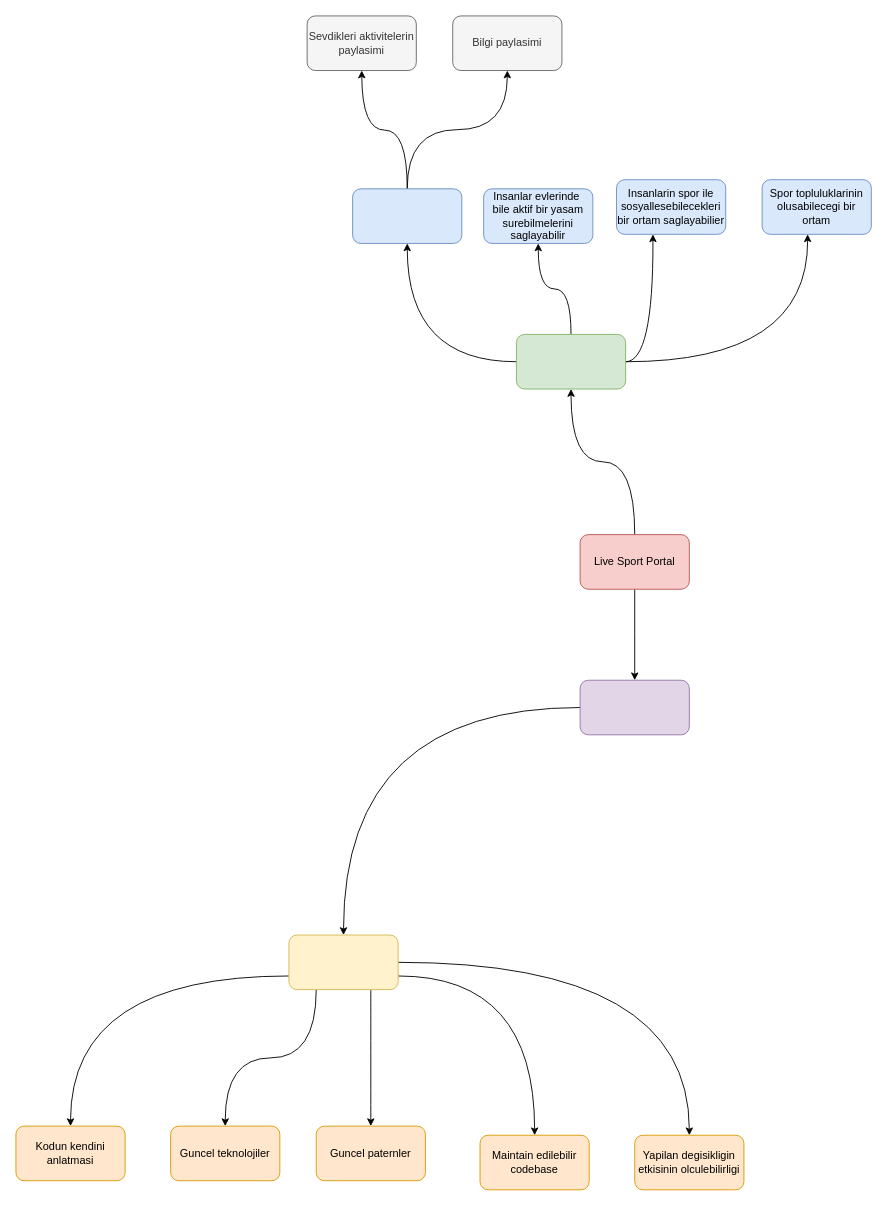
Some shapes in this 887 by 1206 pixel diagram are drawn without their labels. The shapes that lost their labels are listed below. From the top down, each one's box as (x1, y1, x2, y2) in pixels, then its label:
(352, 188, 462, 243): Insanlarin kendilerini ifade edebilecekleri bir platform
(516, 334, 626, 389): Neden?
(579, 679, 689, 735): Nasil?
(288, 934, 398, 990): Teknik olarak
